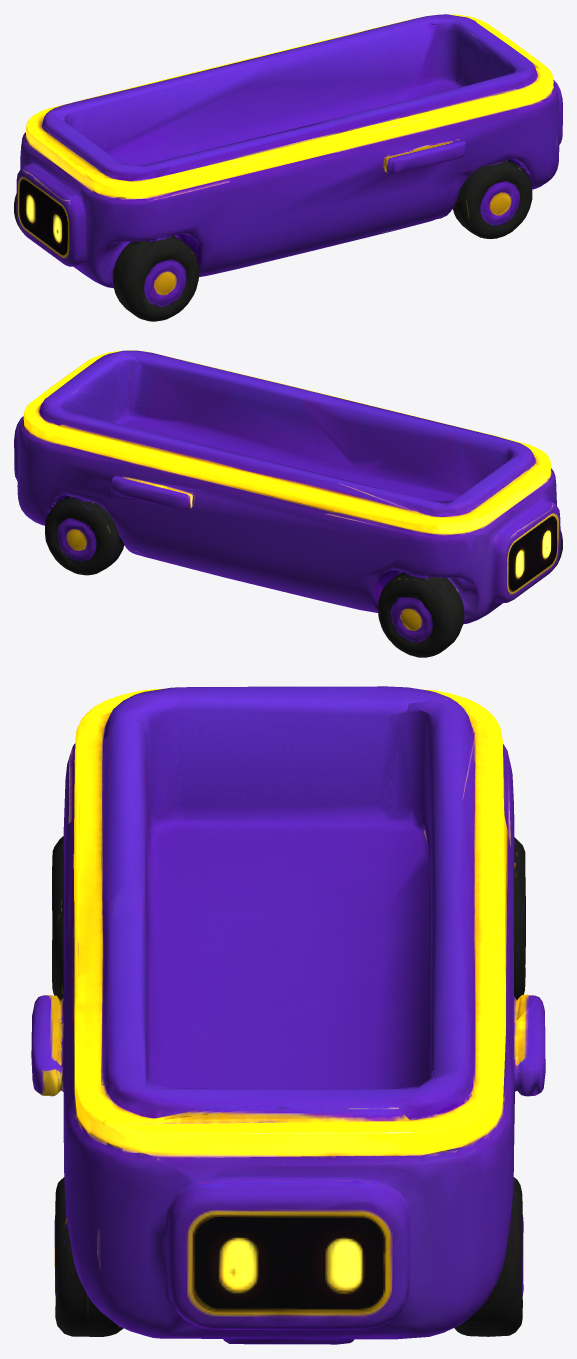
The model's file is Meshy_AI_Purple_Toy_Wagon_with_0515222443_texture.fbx.
3 views of the same model, one above another, from view 1: azimuth 30°, elevation 25°; view 2: azimuth 150°, elevation 25°; view 3: azimuth 270°, elevation 25° (orthographic). The views are drawn at different scales.
Visible parts, largest first — view 1: Mesh_0; view 2: Mesh_0; view 3: Mesh_0.
Boxes of the visible parts, x1,y1,x2,y2 form: Mesh_0: [14, 14, 562, 321]; Mesh_0: [14, 350, 562, 657]; Mesh_0: [31, 686, 545, 1344].
Size of the model in its own units: 3.58 by 1 by 1.62.
1 material, 1 textured.
